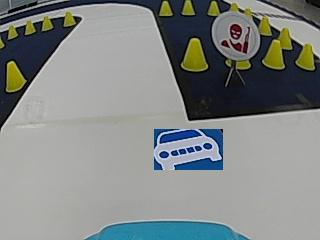evil: (210, 12, 258, 60)
